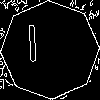I: (25, 25, 40, 71)
